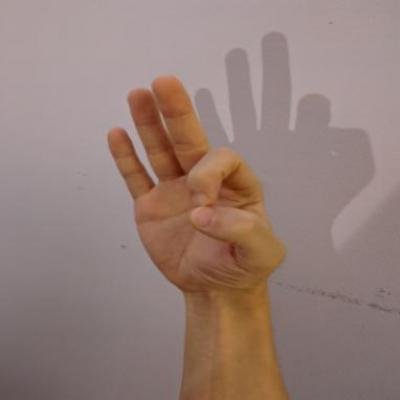hand: (98, 68, 299, 304)
